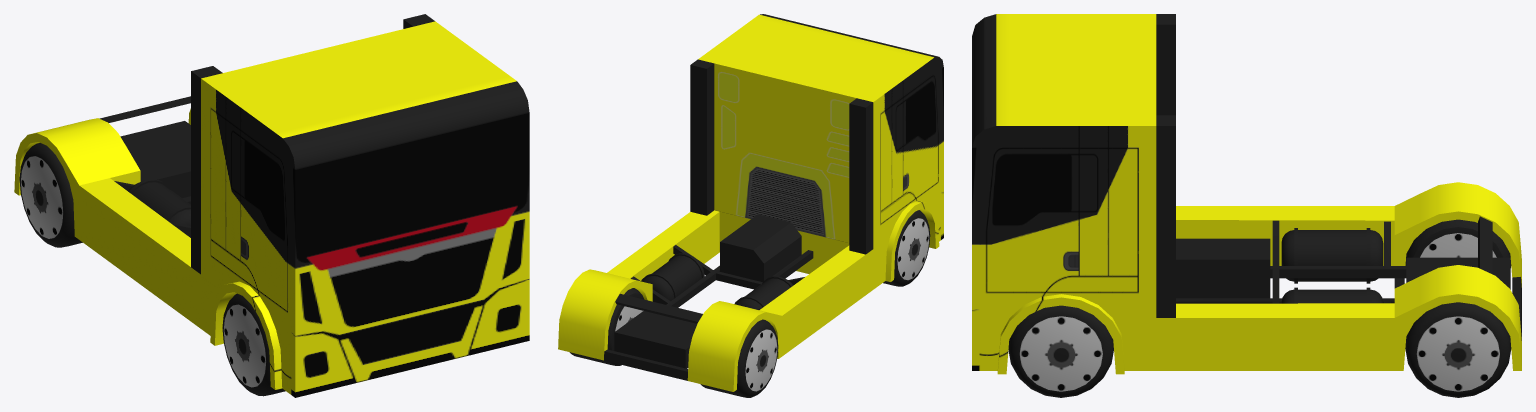
File: car_flip.fbx
The picture shows the model from 3 angles, left to right: view 1: azimuth 30°, elevation 25°; view 2: azimuth 150°, elevation 25°; view 3: azimuth 270°, elevation 25°; orthographic projection. The views are drawn at different scales.
Parts seen in each view (by area): view 1: Body_Truck, Backward_Wheel_R, Forward_Wheel_R; view 2: Body_Truck, Backward_Wheel_R, Forward_Wheel_R, Backward_Wheel_L; view 3: Body_Truck, Backward_Wheel_L, Forward_Wheel_L, Backward_Wheel_R.
Part boxes in pixels (x1,y1,x2,y2): Body_Truck: [14, 14, 529, 397]; Backward_Wheel_R: [19, 143, 82, 247]; Forward_Wheel_R: [222, 293, 285, 396]; Body_Truck: [558, 14, 943, 391]; Backward_Wheel_R: [700, 319, 778, 397]; Forward_Wheel_R: [883, 210, 930, 286]; Backward_Wheel_L: [569, 288, 644, 365]; Body_Truck: [972, 14, 1521, 374]; Backward_Wheel_L: [1405, 302, 1511, 397]; Forward_Wheel_L: [1008, 305, 1113, 397]; Backward_Wheel_R: [1405, 219, 1511, 267].
Size of the model in its own units: 213 by 228 by 415.
